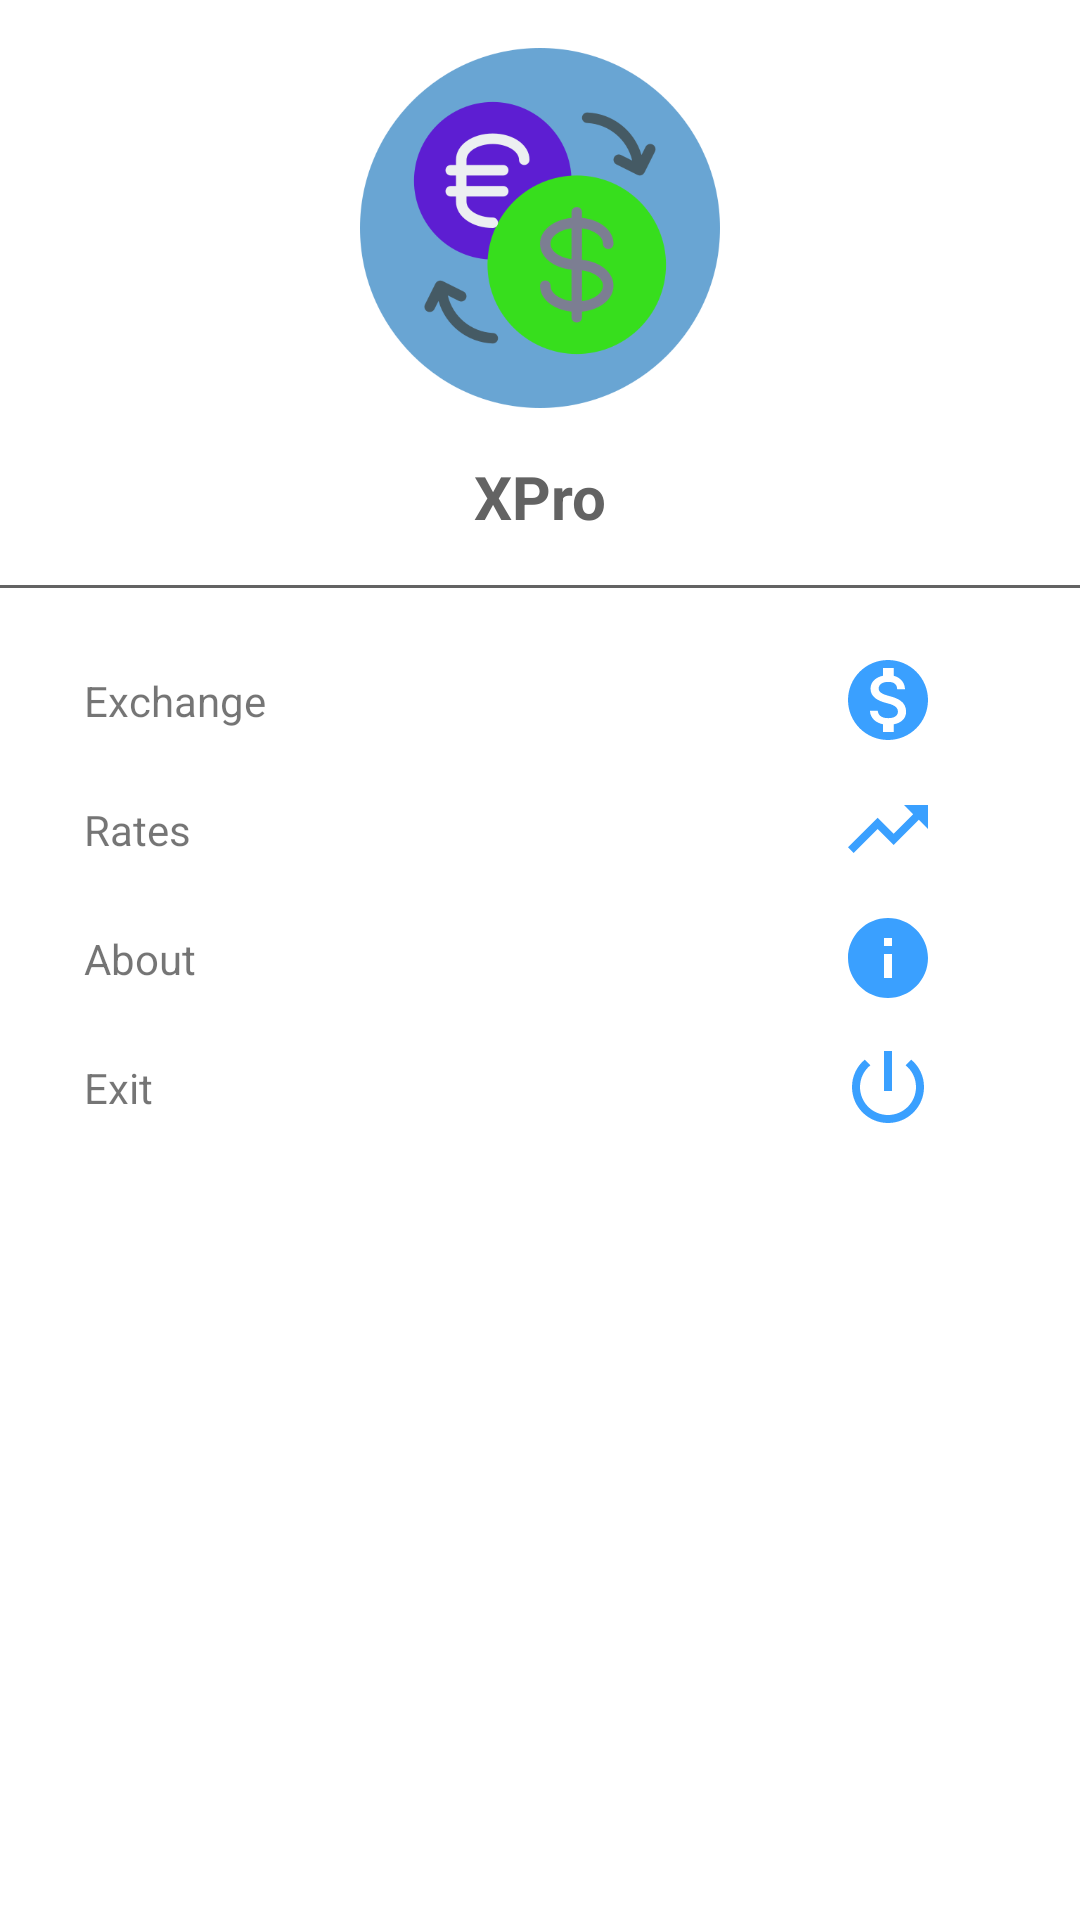

Icons on this 1080px×1920px Android screen, each with the point to tap as point (x, y):
info: point (888, 958)
trending up: point (888, 829)
